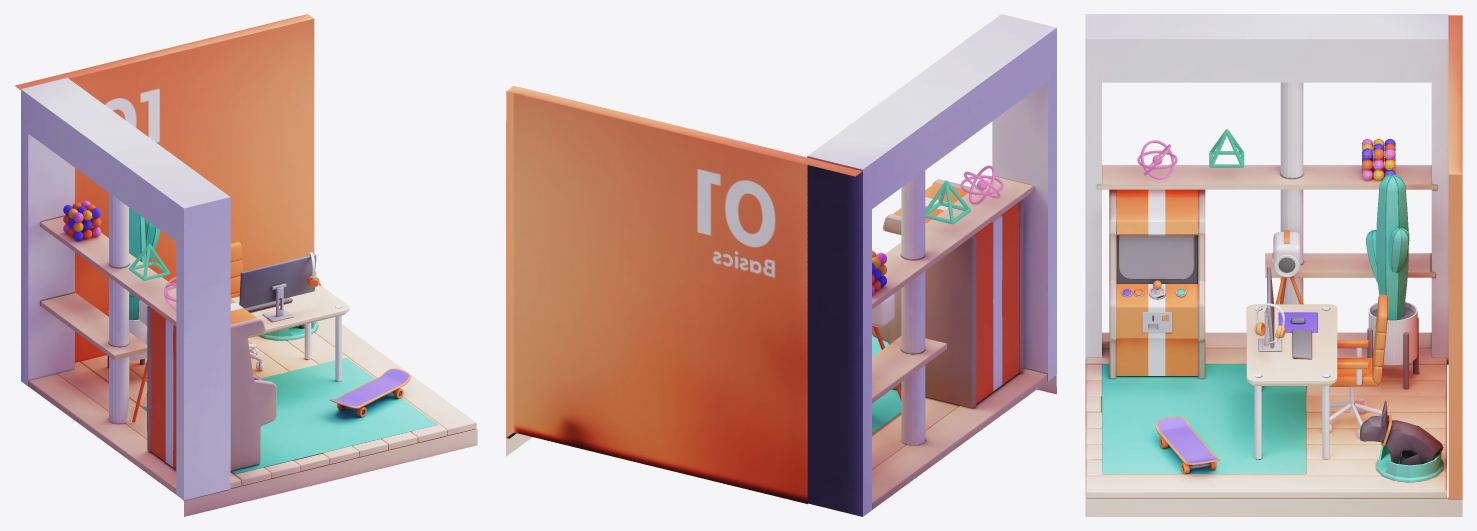
File: level-react-draco.glb
3 renders of one model, left to right at view 1: azimuth 30°, elevation 25°; view 2: azimuth 150°, elevation 25°; view 3: azimuth 270°, elevation 25°, orthographic. The views are drawn at different scales.
Parts seen in each view (by area): view 1: Cactus, Pyramid; view 2: Cactus, Pyramid, React; view 3: Cactus, React, Pyramid.
Boxes of the visible parts, x1,y1,x2,y2 form: Cactus: [15, 14, 477, 516]; Pyramid: [129, 244, 170, 280]; Cactus: [506, 14, 1056, 516]; Pyramid: [925, 180, 970, 224]; React: [960, 165, 1003, 204]; Cactus: [1085, 14, 1462, 516]; React: [1137, 140, 1177, 179]; Pyramid: [1209, 129, 1244, 167].
Bounding box in the file's own units: 2 × 2.01 × 2.
Materials: 4 (1 with a texture image).
